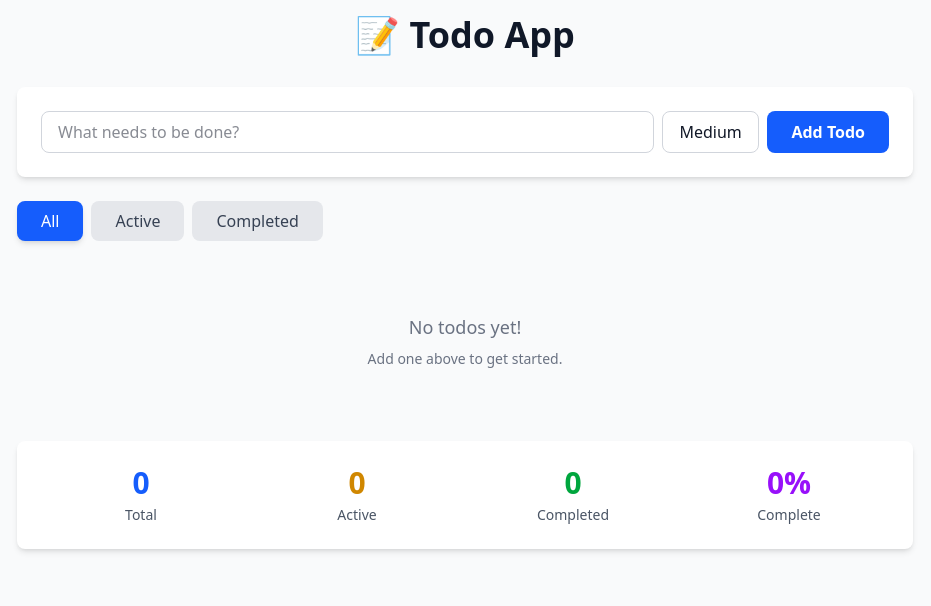
Todo App - Integration Tests › Filter Workflows › filters show only active todos
Type "Active todo" into the field at (348, 132), box [58,120,638,144]
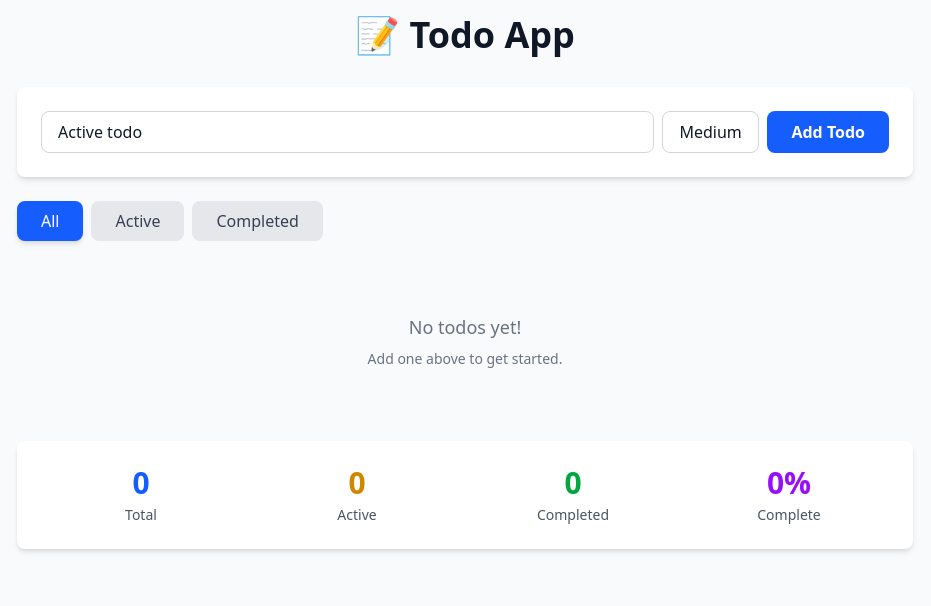
Click the button "Add Todo" at (828, 132), box [768,111,889,153]
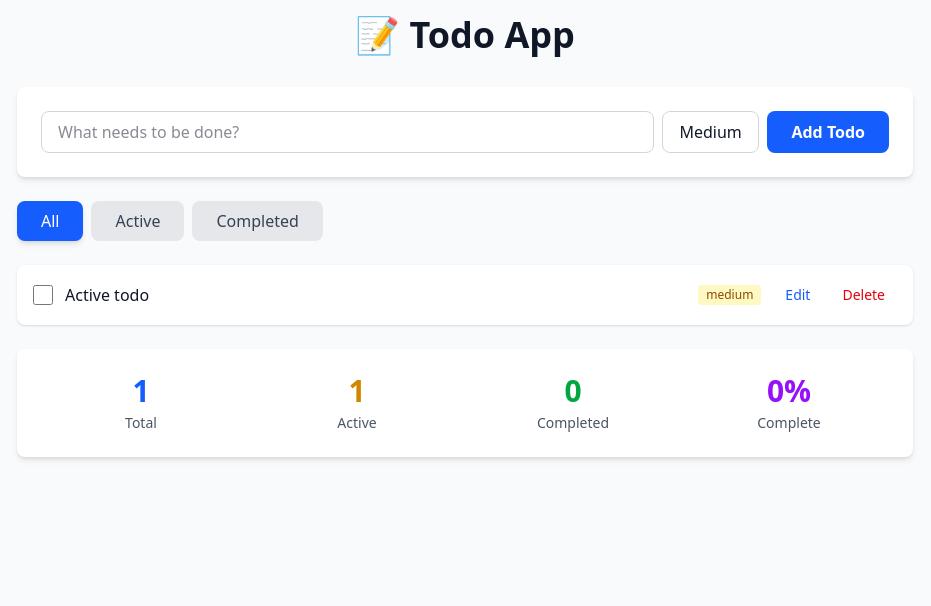
Expected: the text "Active todo" is shown, [65,284,149,306]
Type "Another active" into the field at (348, 132), box [58,120,638,144]
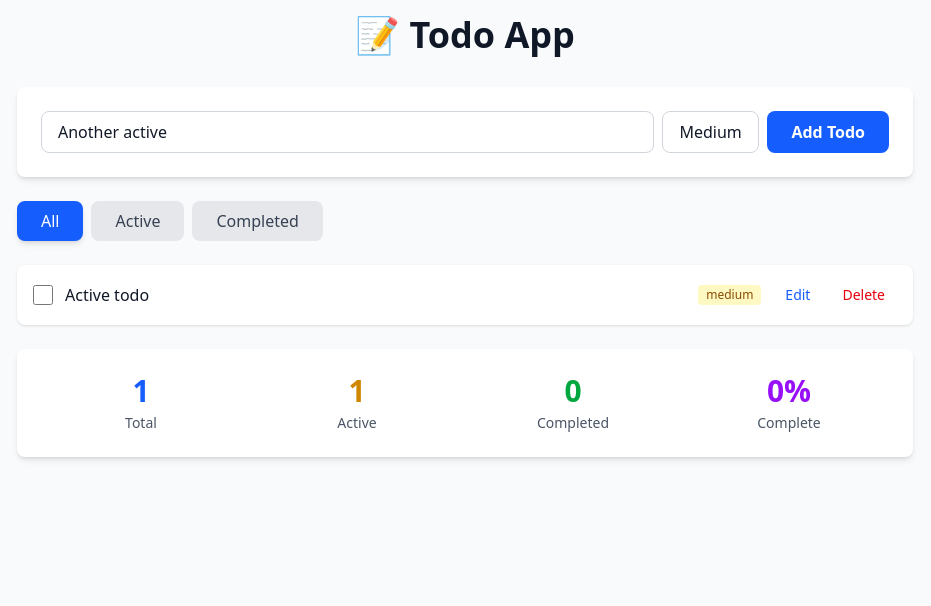
Click the button "Add Todo" at (828, 132), box [768,111,889,153]
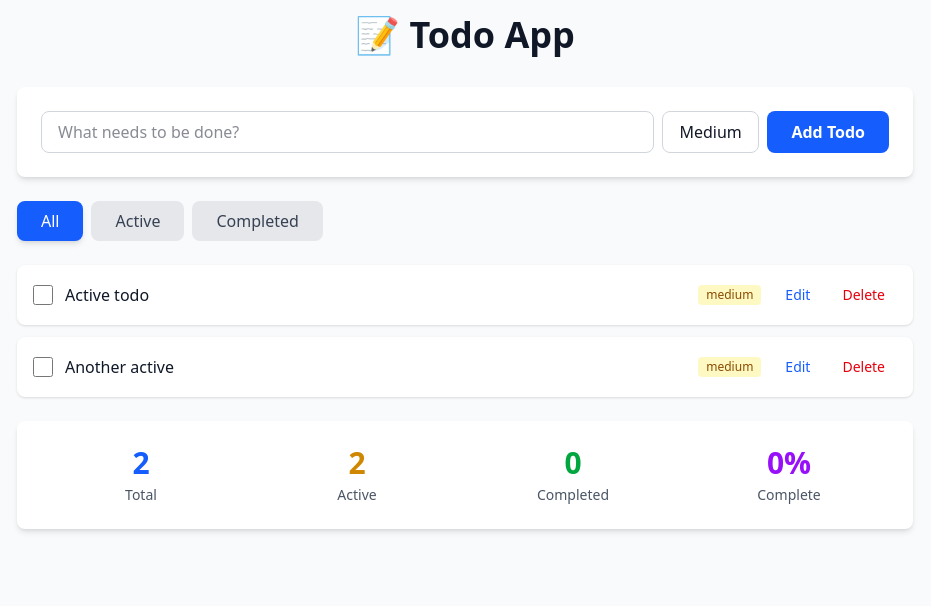
Expected: the text "Another active" is shown, [65,356,174,378]
Click the checkbox with test id "todo-checkbox" at (43, 295), box [33,285,53,305]
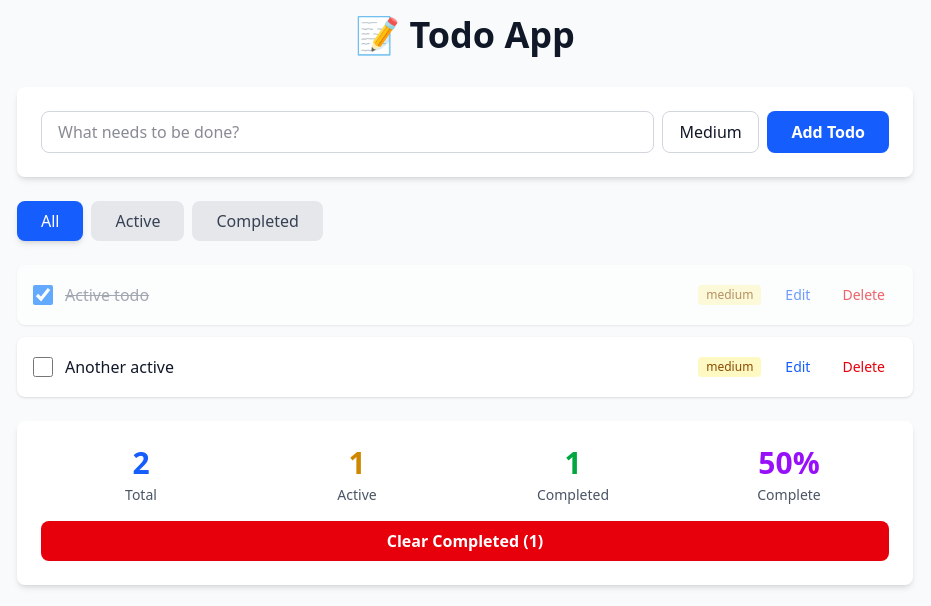
Expected: the text with test id "todo-text" has class "line-through", [65,284,149,306]
Click the button "Active" at (138, 221), box [92,201,184,241]
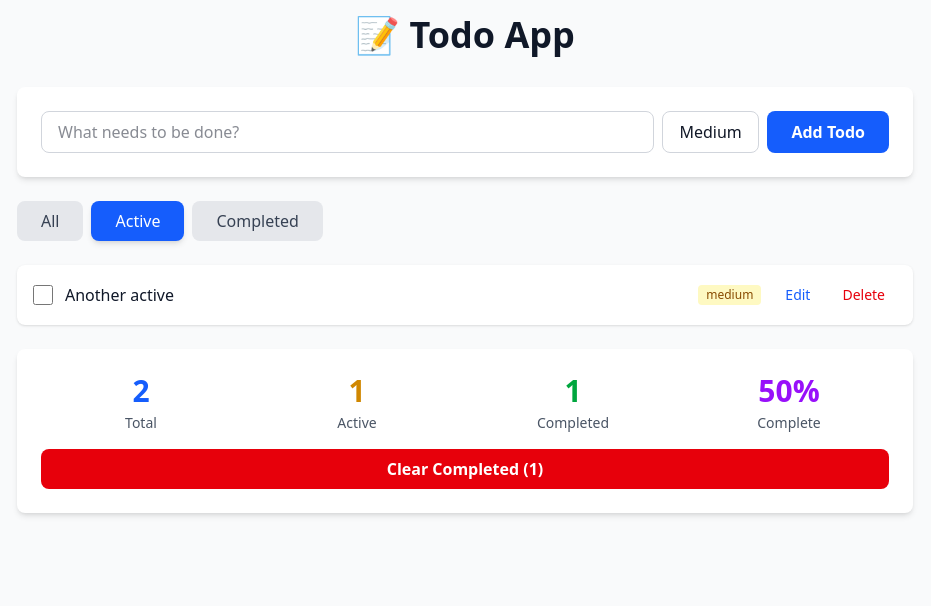
Expected: the text "Another active" is shown, [65,284,174,306]
Expected: the text "Active todo" is gone
